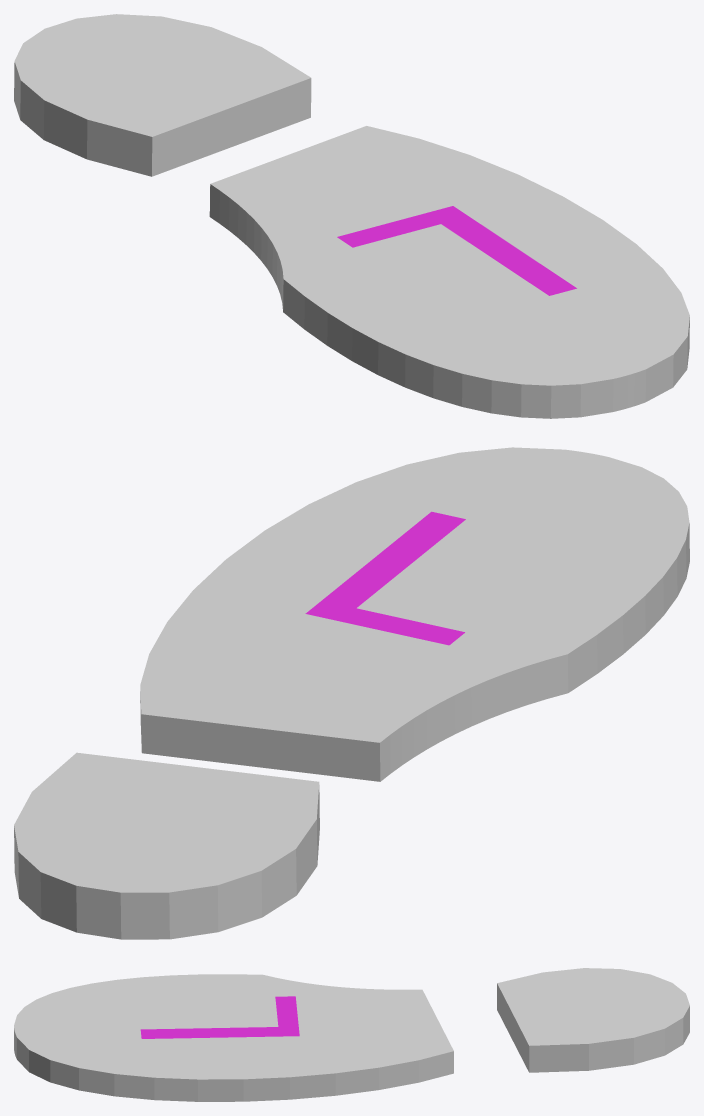
Rendered from leftFoot.fbx.
The picture shows the model from 3 angles, top to bottom: view 1: azimuth 30°, elevation 25°; view 2: azimuth 150°, elevation 25°; view 3: azimuth 270°, elevation 25°; orthographic projection. The views are drawn at different scales.
Visible parts, largest first — view 1: lefttoe, leftheel, L; view 2: lefttoe, leftheel, L; view 3: lefttoe, leftheel, L.
Part boxes in pixels (bbox=[...]): lefttoe: bbox=[209, 126, 689, 418]; leftheel: bbox=[14, 14, 311, 176]; L: bbox=[337, 206, 576, 295]; lefttoe: bbox=[140, 447, 689, 781]; leftheel: bbox=[14, 752, 319, 939]; L: bbox=[305, 511, 465, 645]; lefttoe: bbox=[14, 974, 453, 1101]; leftheel: bbox=[497, 968, 689, 1072]; L: bbox=[140, 996, 299, 1038].
Size of the model in its own units: 71.77 by 10.03 by 198.
